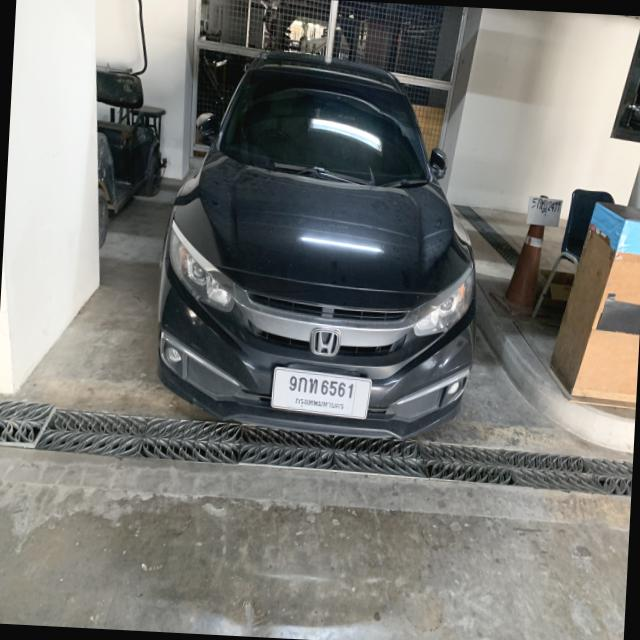license_plate: (270, 366, 372, 420)
